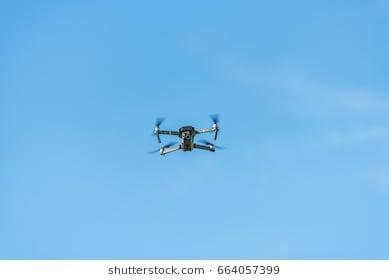drone: (145, 110, 229, 158)
